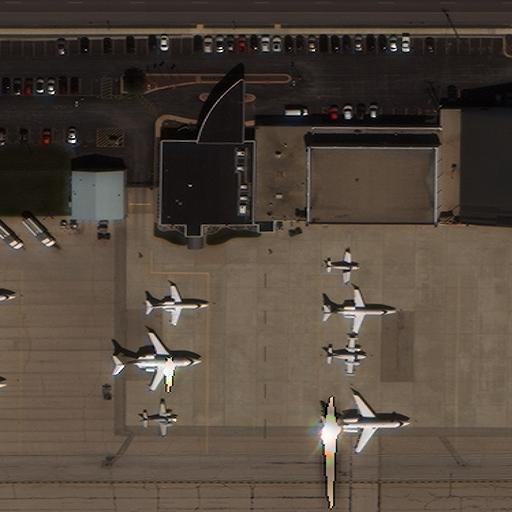Medium Civil Transport: (114, 332, 202, 390), (322, 394, 410, 452)
Small Civil Transport: (324, 288, 396, 333), (146, 285, 209, 324), (326, 337, 366, 376), (141, 400, 176, 435), (325, 253, 360, 281)
